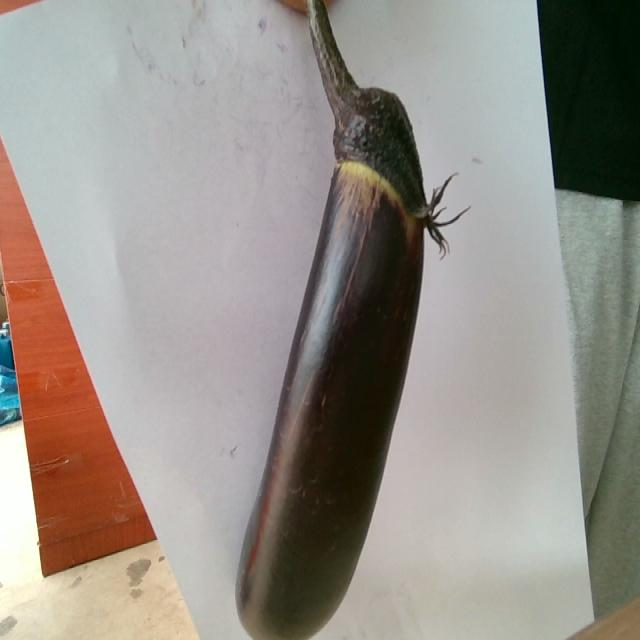Egg plant: (237, 0, 464, 636)
